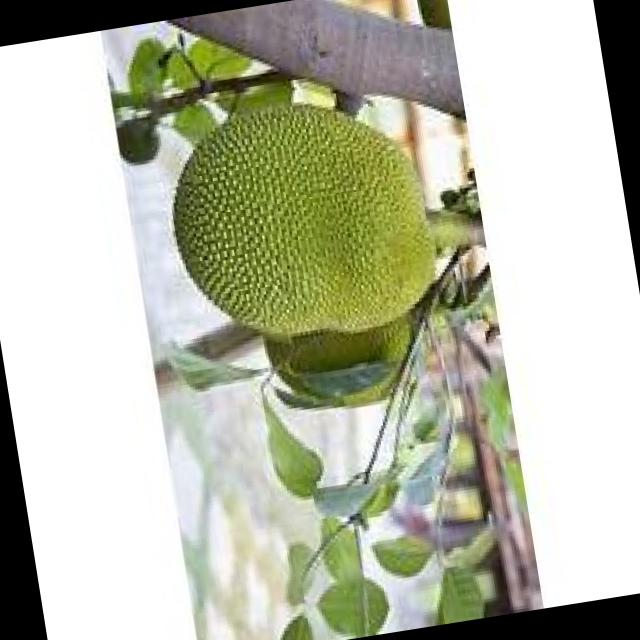Fruit: (146, 72, 454, 369)
